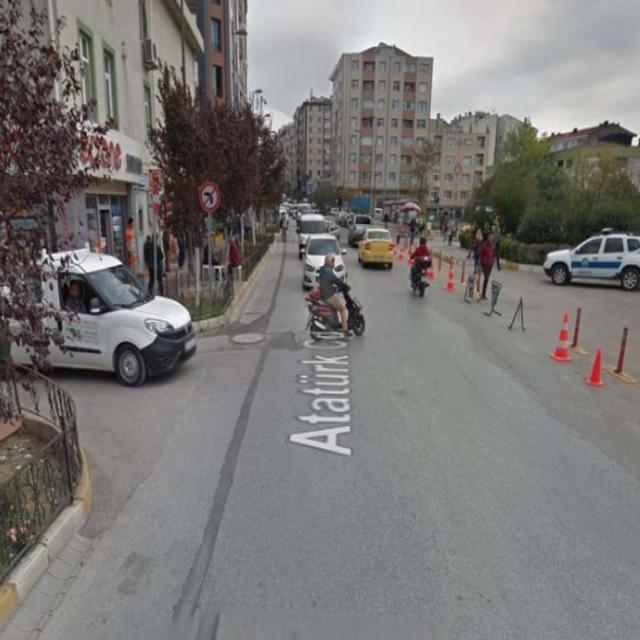soladonulmez: (198, 182, 220, 214)
